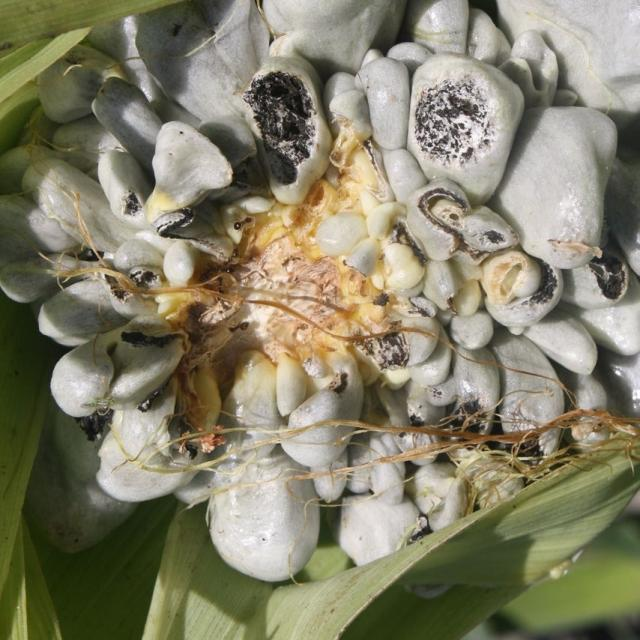Leaf_Scald: (0, 0, 640, 587)
